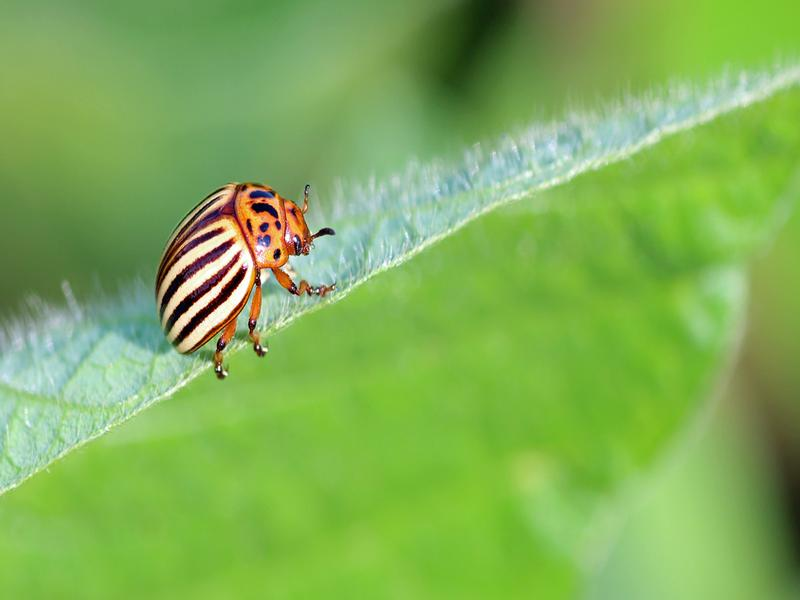hrosc: (151, 169, 310, 371)
